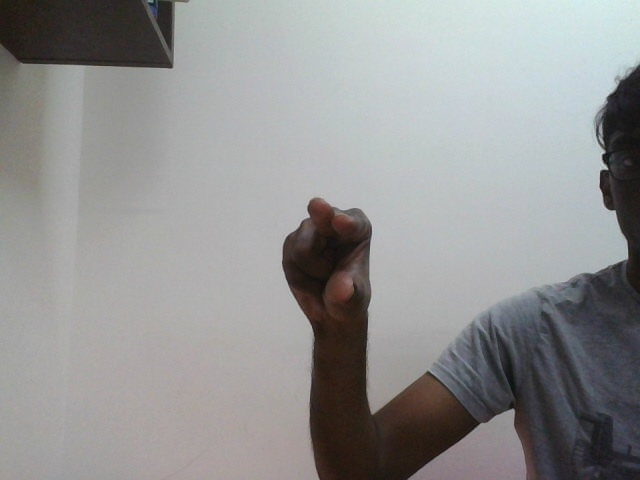No: (280, 192, 373, 321)
